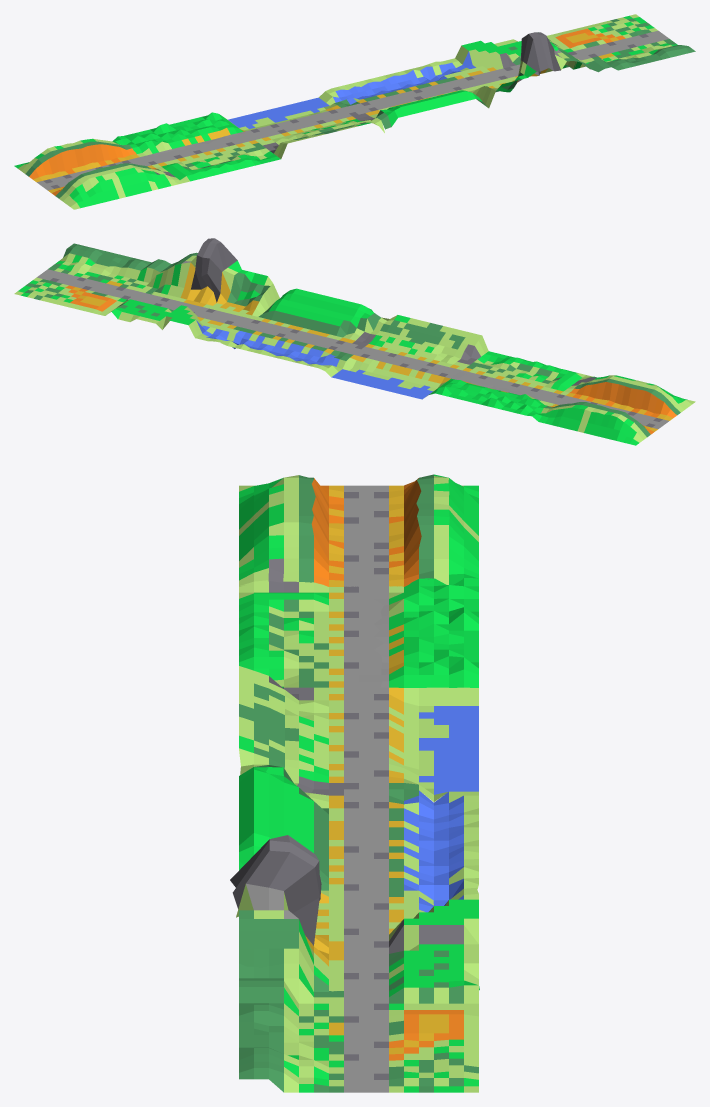
Rendered from Plataforma01.fbx.
3 views of the same model, one above another, from view 1: azimuth 30°, elevation 25°; view 2: azimuth 150°, elevation 25°; view 3: azimuth 270°, elevation 25° (orthographic). The views are drawn at different scales.
Visible parts, largest first — view 1: Plane.001; view 2: Plane.001; view 3: Plane.001.
Boxes of the visible parts, x1,y1,x2,y2 form: Plane.001: [14, 14, 695, 209]; Plane.001: [14, 238, 695, 445]; Plane.001: [230, 474, 479, 1092].
Bounding box in the file's own units: 17936 × 1718 × 3124.
